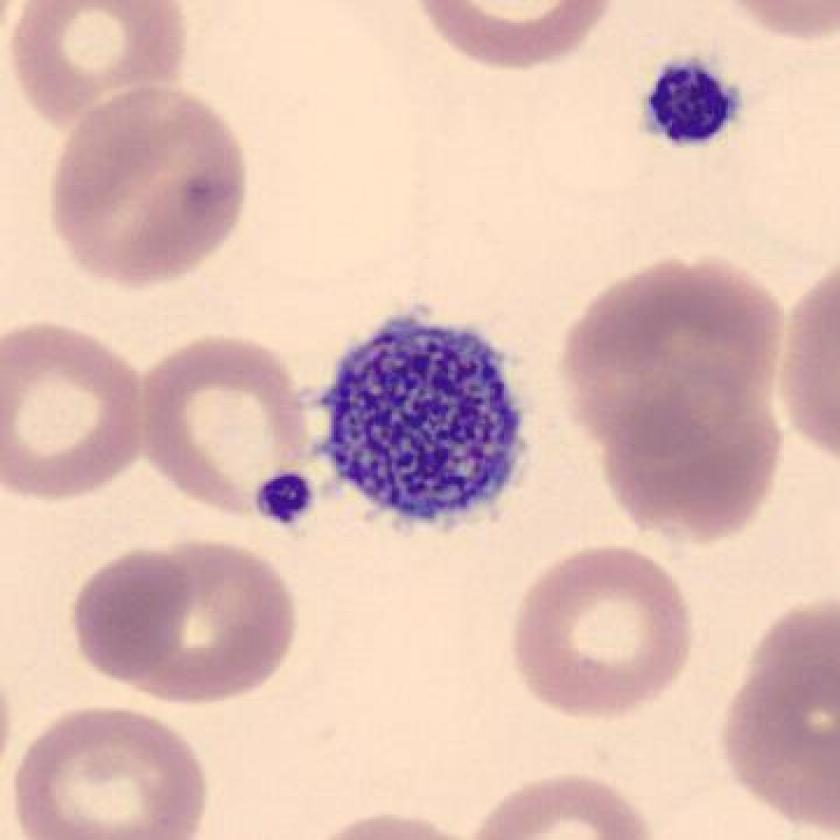platelets: (311, 299, 540, 538), (631, 45, 752, 156), (251, 457, 323, 542)
